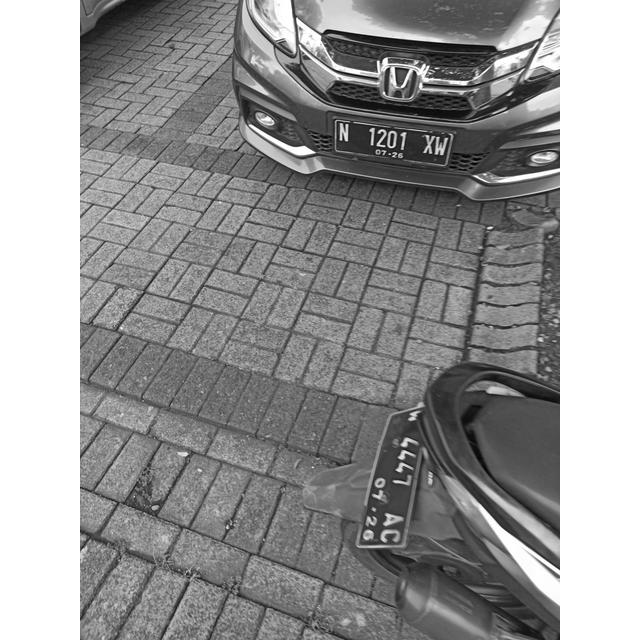license: (337, 121, 449, 162)
